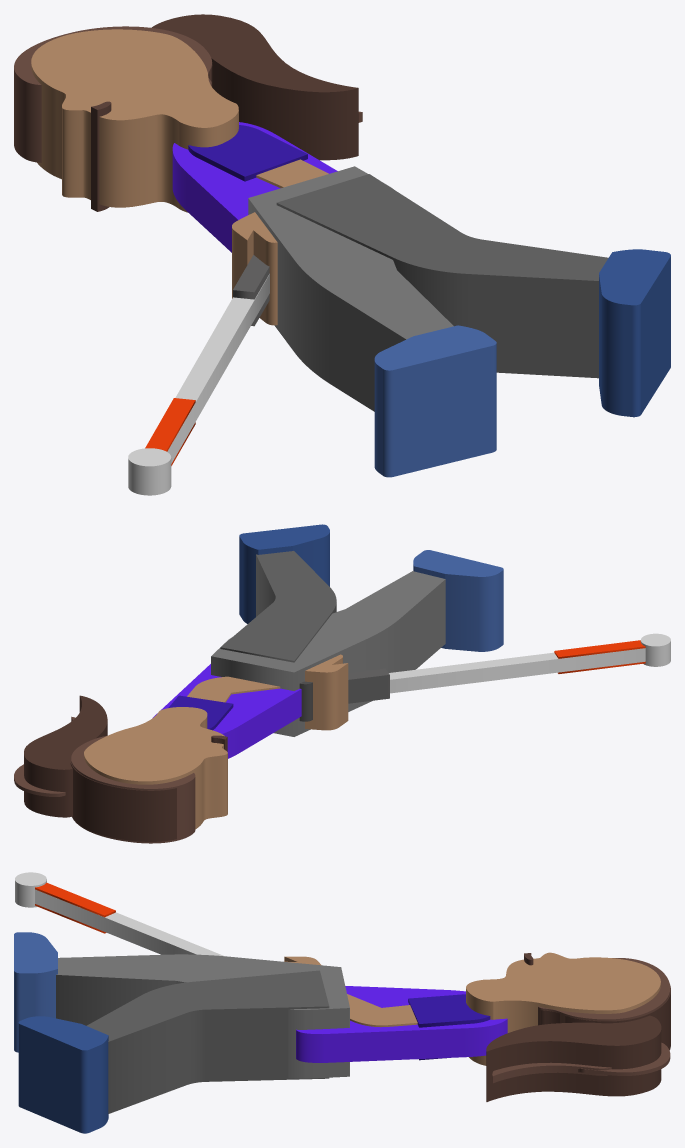
The model's file is emoji_u1f469_1f3fd_200d_1f9af.glb.
The picture shows the model from 3 angles, top to bottom: view 1: azimuth 30°, elevation 25°; view 2: azimuth 150°, elevation 25°; view 3: azimuth 270°, elevation 25°; orthographic projection. The views are drawn at different scales.
Visible parts, largest first — view 1: emoji_u1f469_1f3fd_200d_1f9af; view 2: emoji_u1f469_1f3fd_200d_1f9af; view 3: emoji_u1f469_1f3fd_200d_1f9af.
Part boxes in pixels (bbox=[...]): emoji_u1f469_1f3fd_200d_1f9af: bbox=[14, 14, 670, 495]; emoji_u1f469_1f3fd_200d_1f9af: bbox=[14, 524, 670, 843]; emoji_u1f469_1f3fd_200d_1f9af: bbox=[14, 872, 670, 1133].
Size of the model in its own units: 0.0248 by 0.0046 by 0.033.
